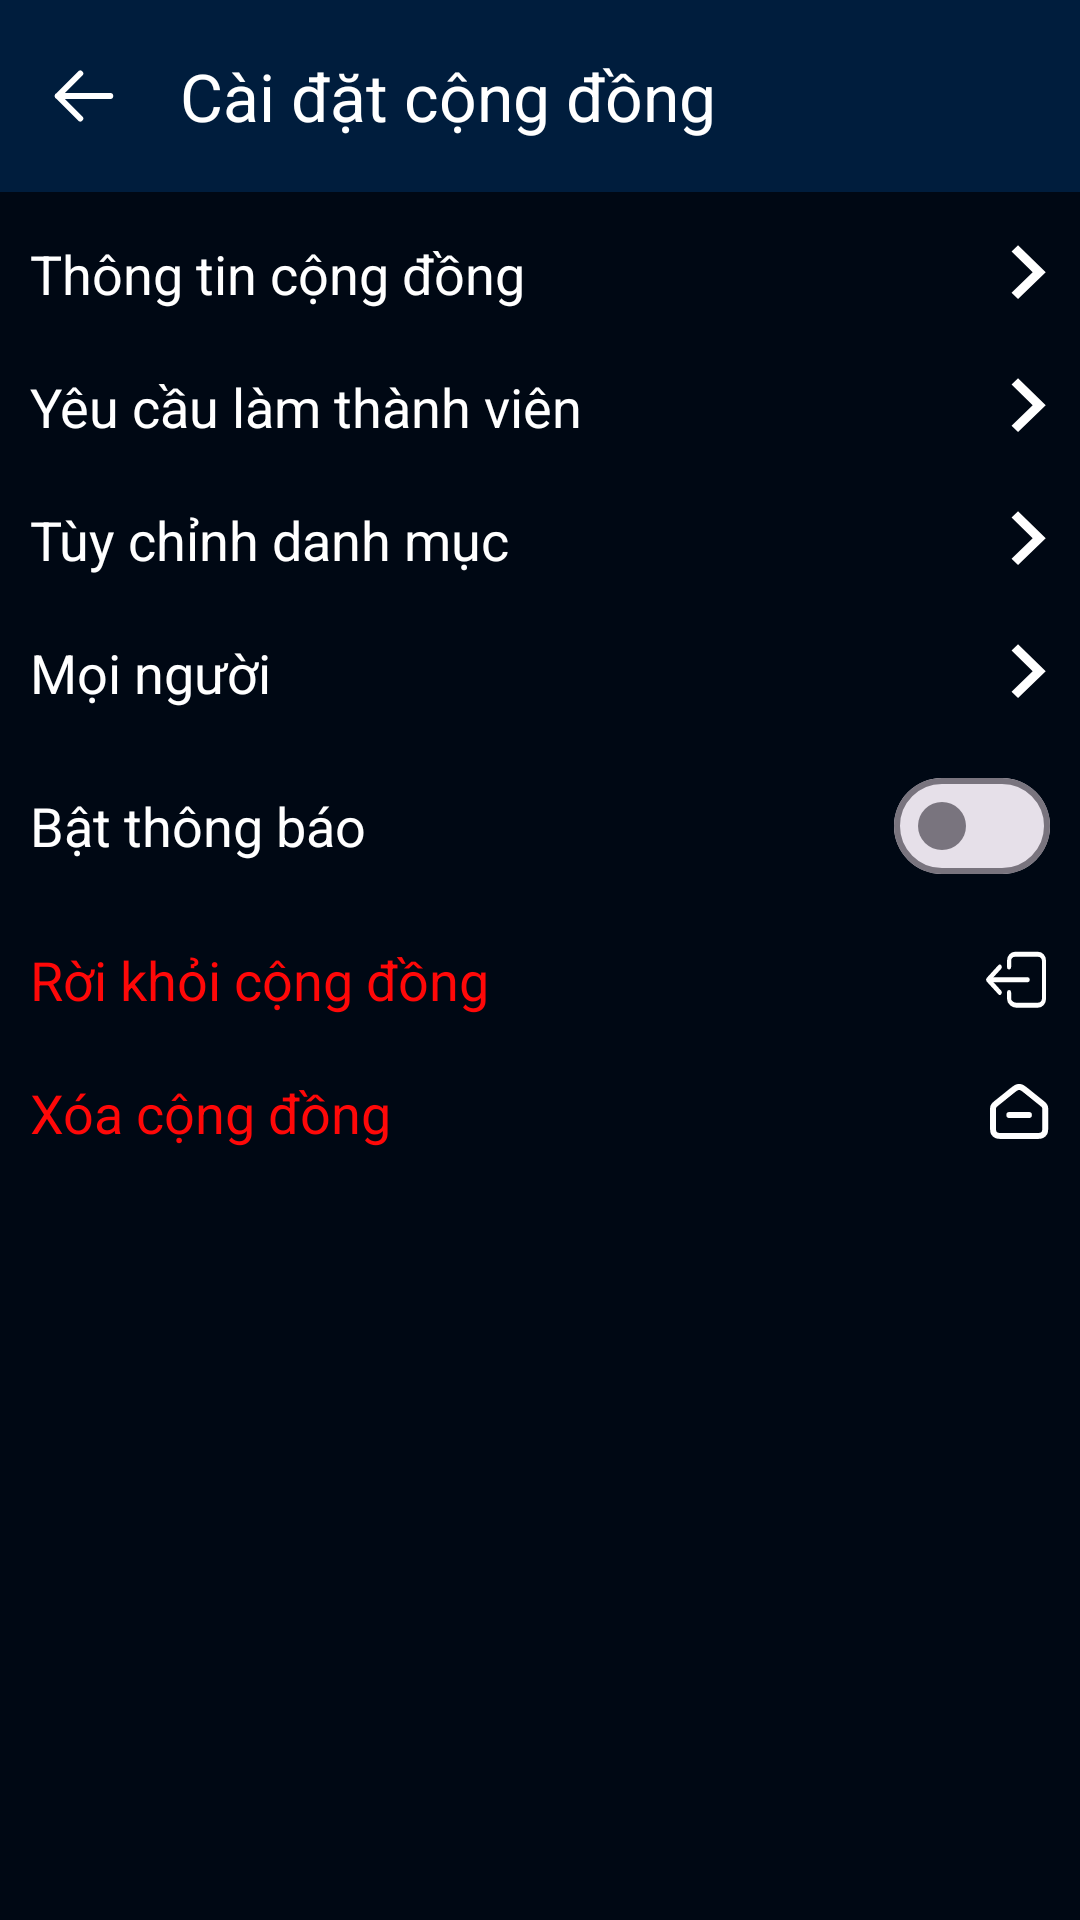

Screen size 1080 × 1920. Icon name, then its box in pixels as (x1, y1, x2, y2):
leave: (986, 951, 1046, 1008)
next: (1011, 245, 1046, 299), (1011, 378, 1046, 432), (1011, 511, 1046, 565), (1011, 644, 1046, 698)
remove community: (990, 1084, 1049, 1139)
